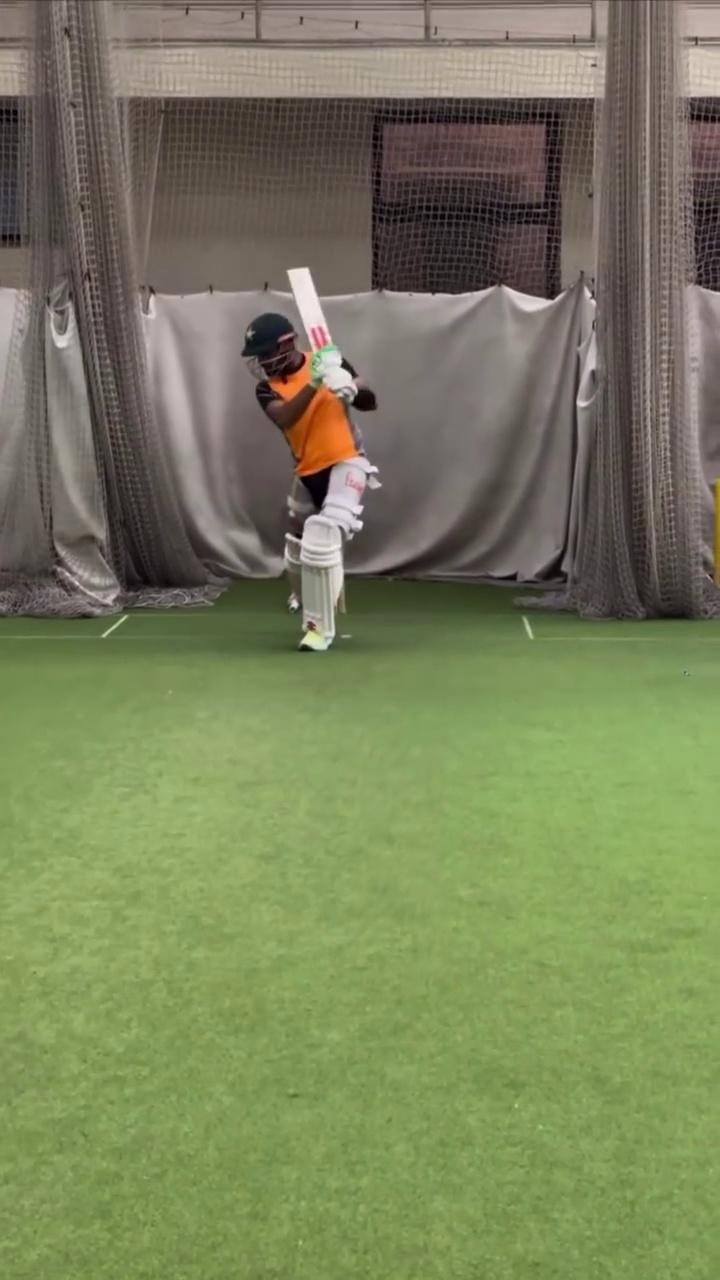bat: (285, 261, 336, 355)
